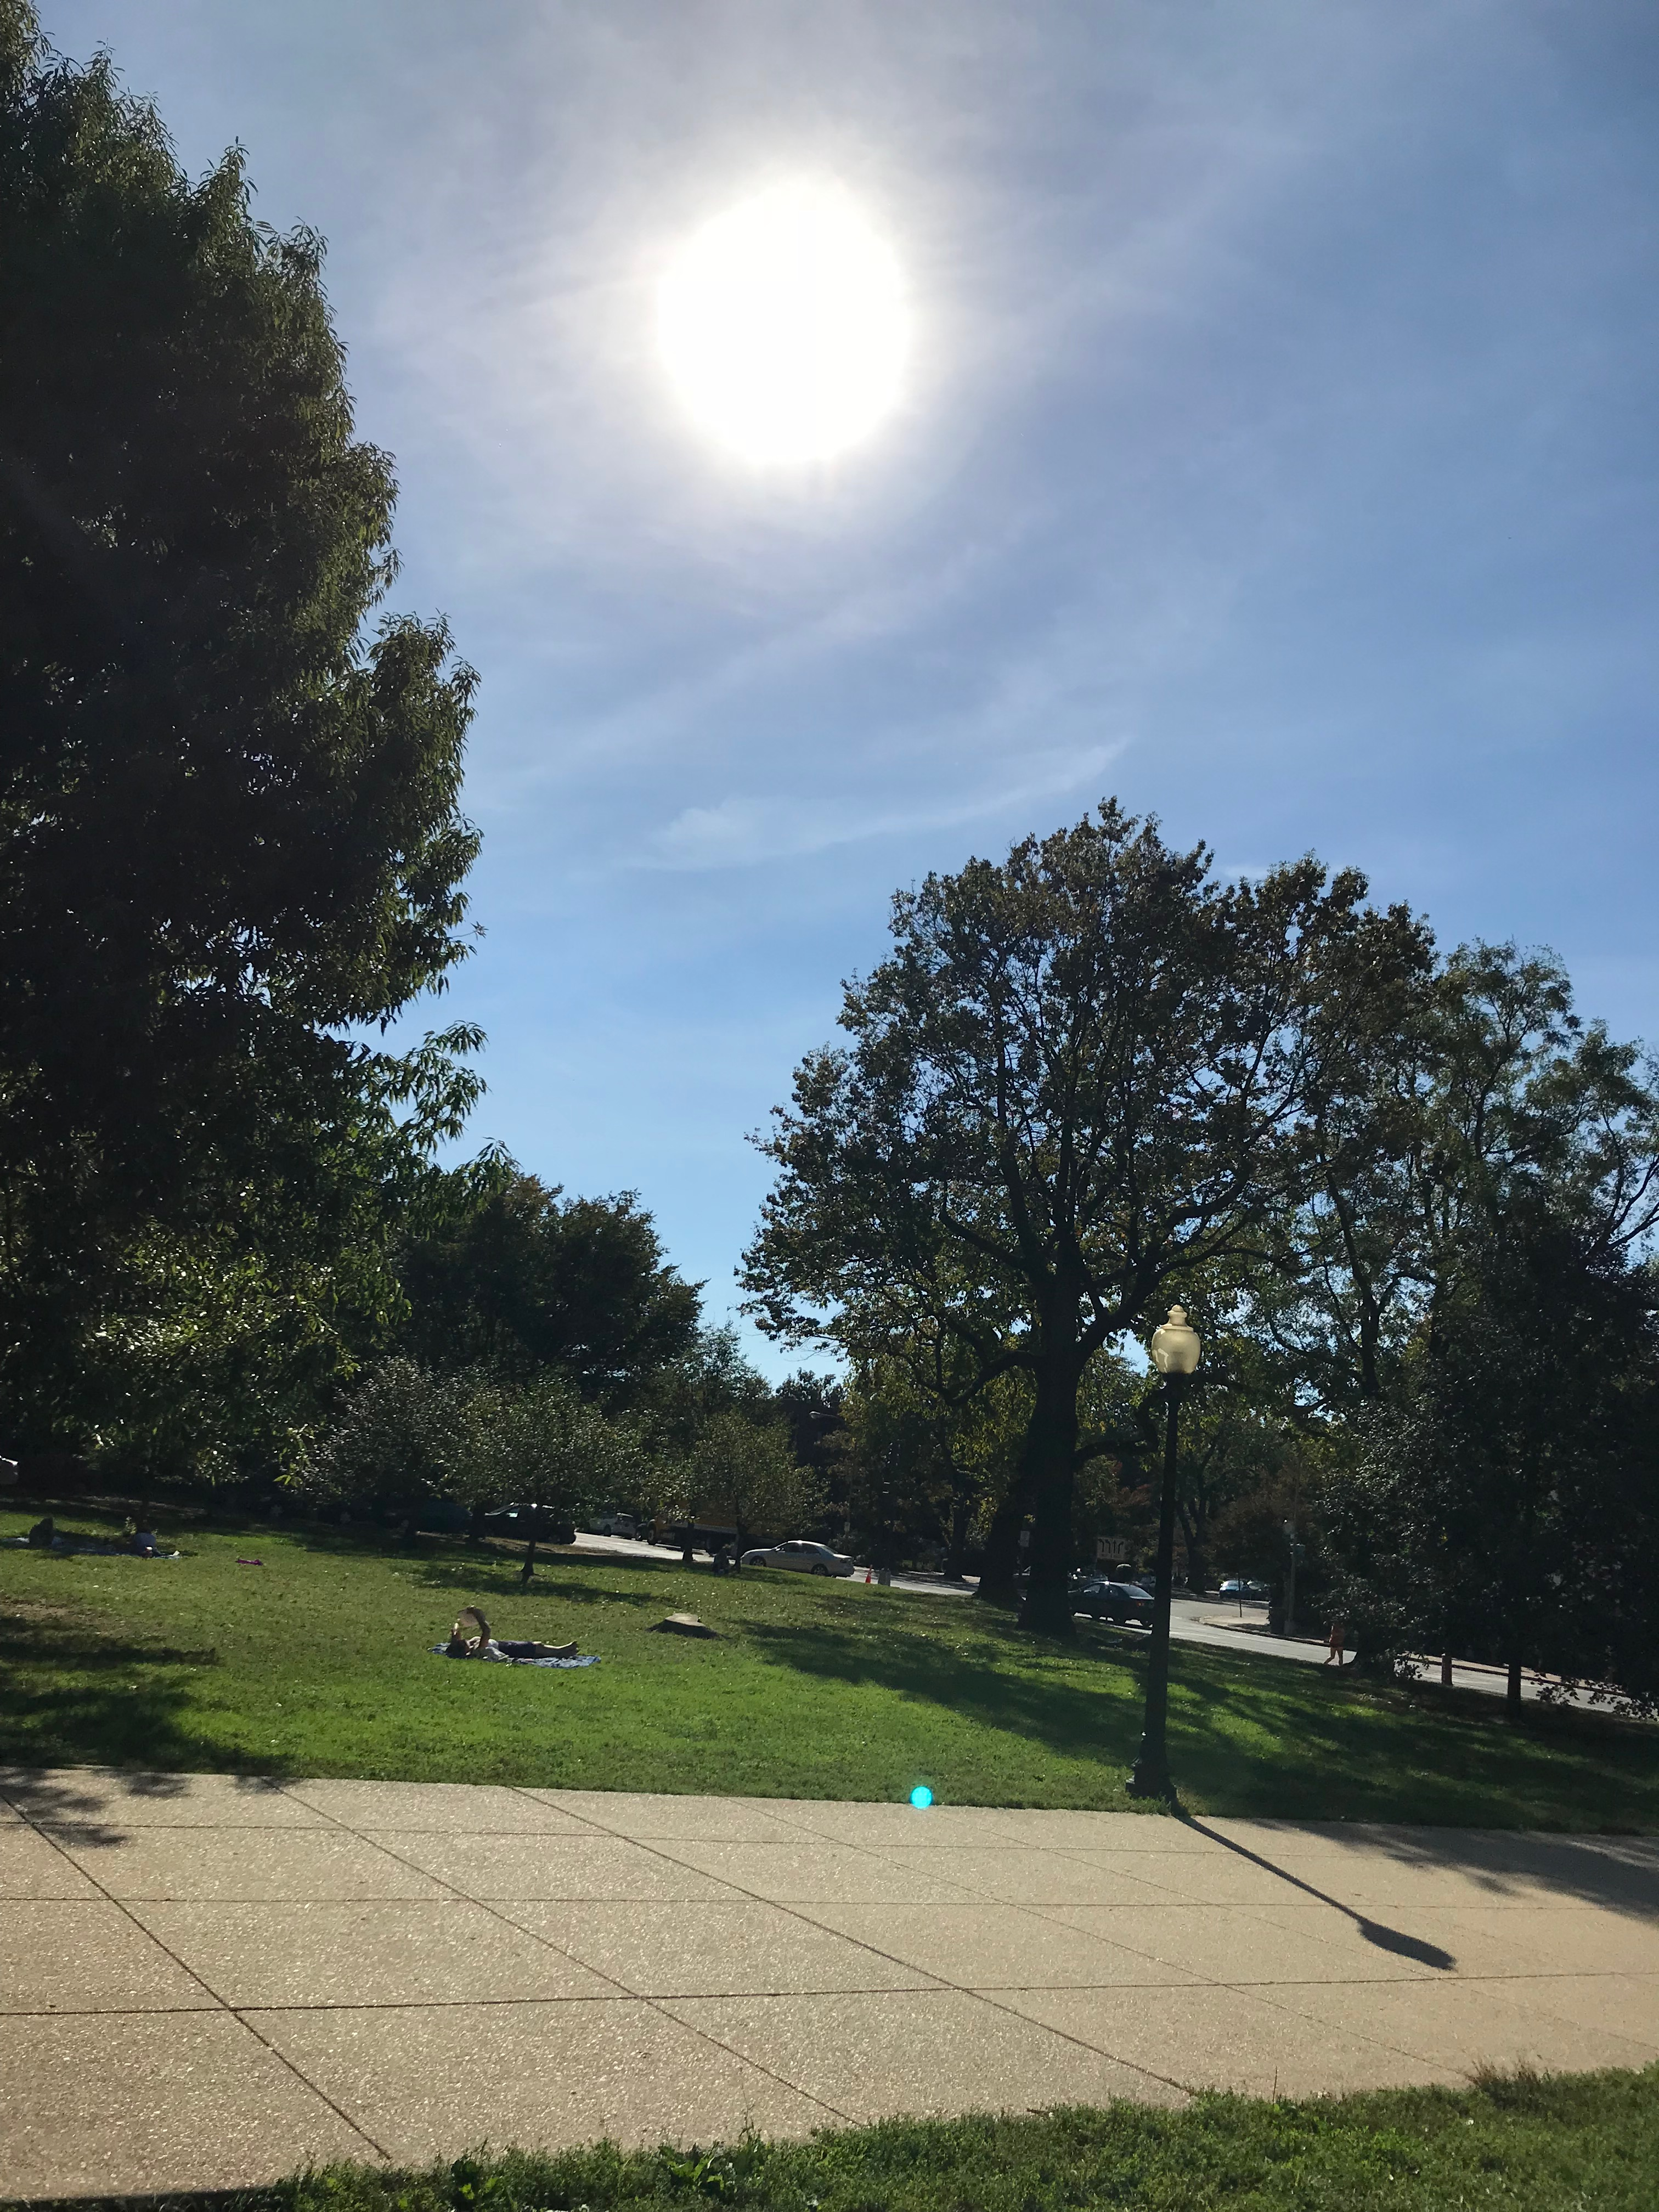flare: (910, 1785, 934, 1810)
